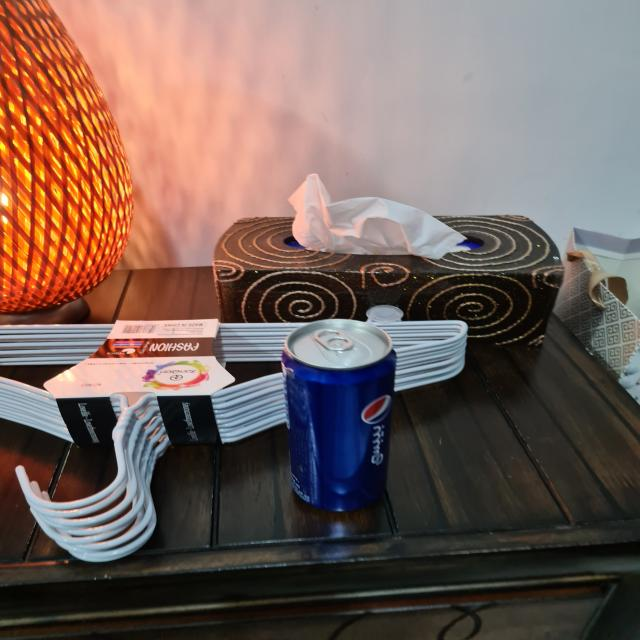non-organic waste: (280, 314, 396, 515)
